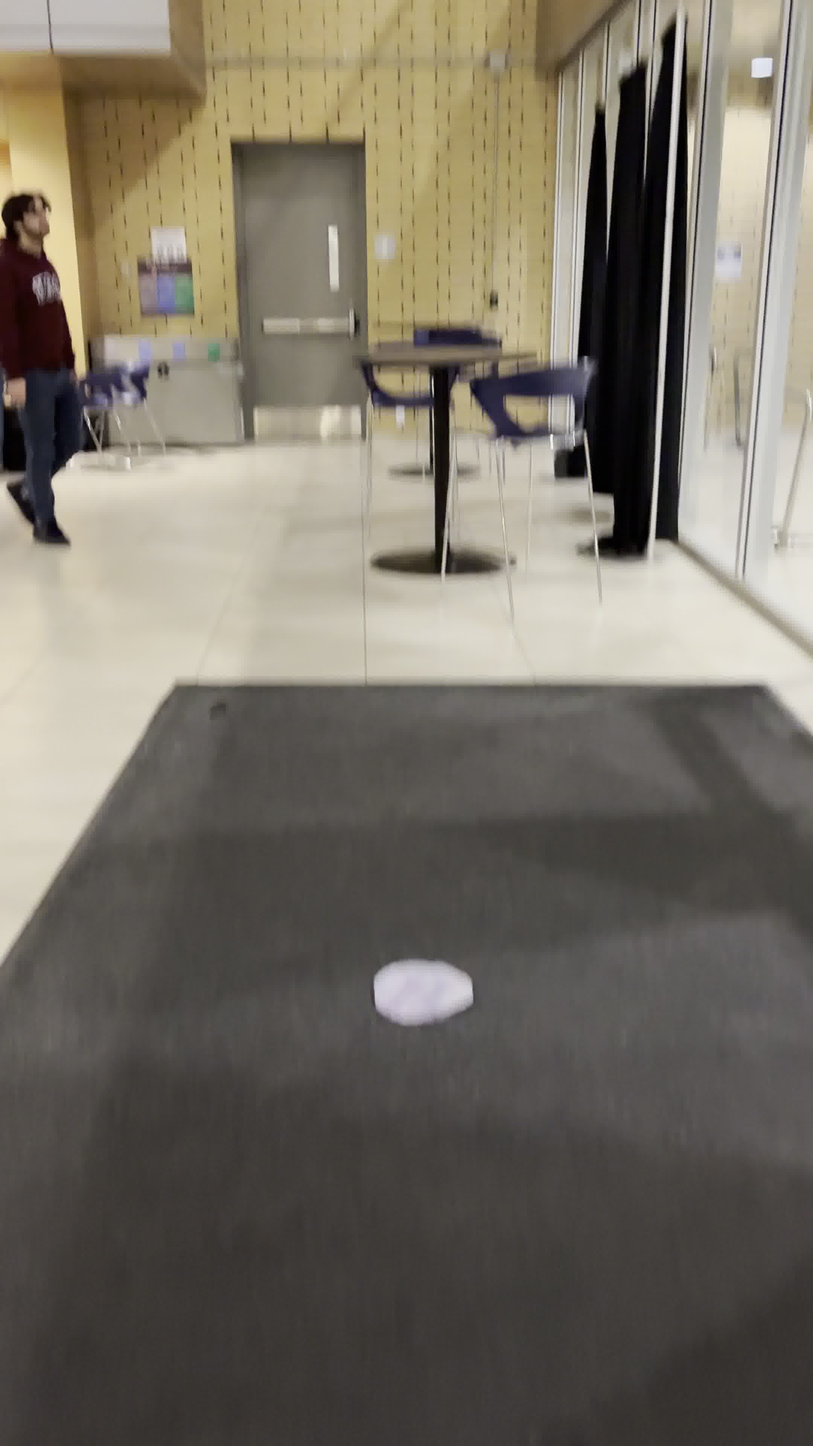Target: (373, 954, 477, 1035)
